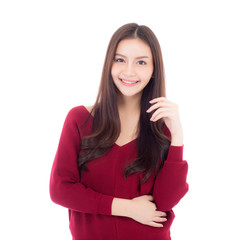teen: (102, 16, 172, 109)
